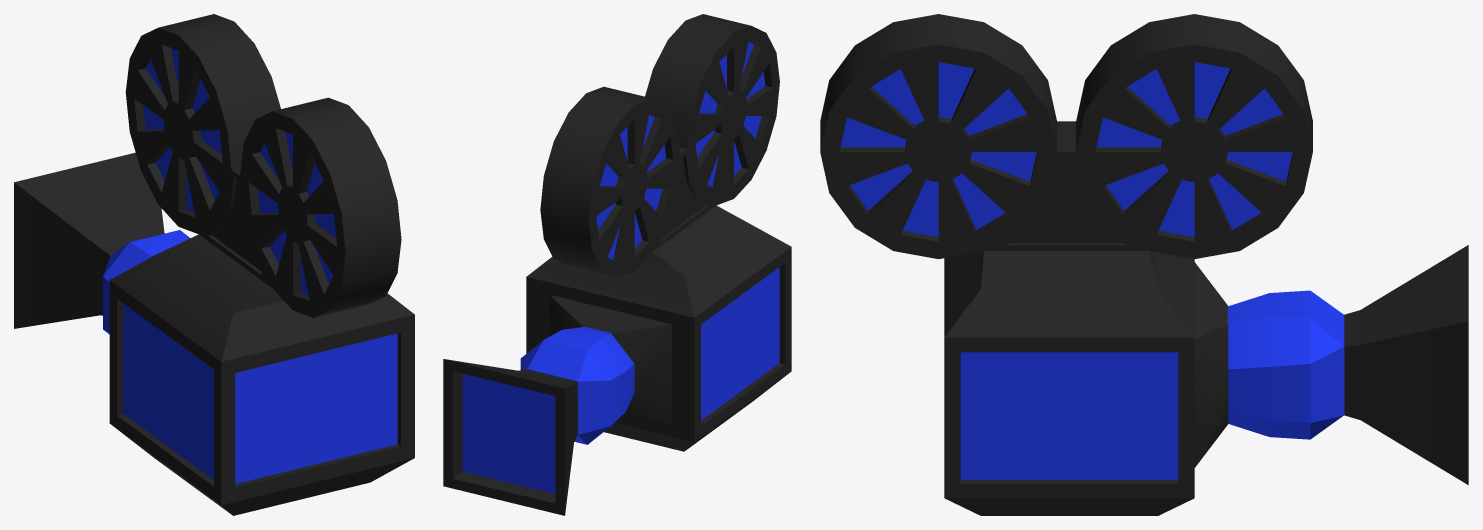
The model's file is CornyCamera.obj.
The picture shows the model from 3 angles, left to right: view 1: azimuth 30°, elevation 25°; view 2: azimuth 150°, elevation 25°; view 3: azimuth 270°, elevation 25°; orthographic projection. The views are drawn at different scales.
Parts seen in each view (by area): view 1: Cube.001; view 2: Cube.001; view 3: Cube.001.
Boxes of the visible parts, x1,y1,x2,y2 form: Cube.001: (14, 14, 414, 515); Cube.001: (443, 14, 791, 515); Cube.001: (820, 14, 1468, 515).
Bounding box in the file's own units: 2 × 3.96 × 5.18.
